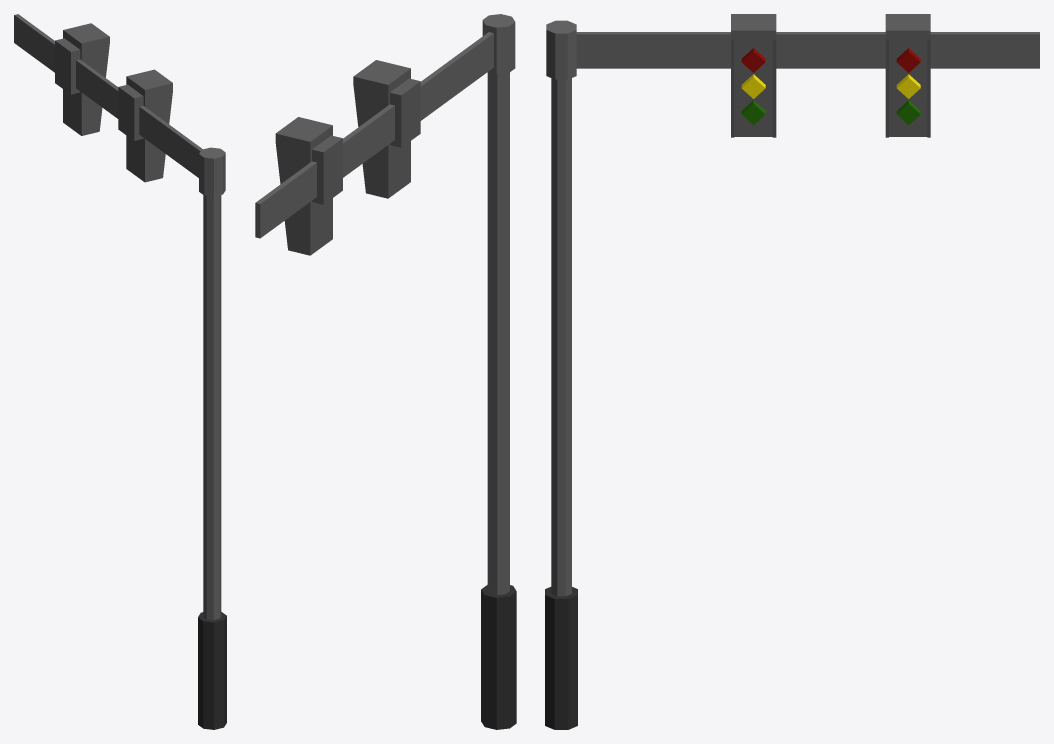
File: Traffic Light 6.fbx
3 views of the same model, side by side, from view 1: azimuth 30°, elevation 25°; view 2: azimuth 150°, elevation 25°; view 3: azimuth 270°, elevation 25° (orthographic). The views are drawn at different scales.
Visible parts, largest first — view 1: Traffic Light 6; view 2: Traffic Light 6; view 3: Traffic Light 6.
Boxes of the visible parts, box(x1,y1,x2,y2) form: Traffic Light 6: box(14, 14, 226, 729); Traffic Light 6: box(255, 14, 516, 729); Traffic Light 6: box(545, 14, 1039, 729).
Bounding box in the file's own units: 0.326 × 2.73 × 4.32.
